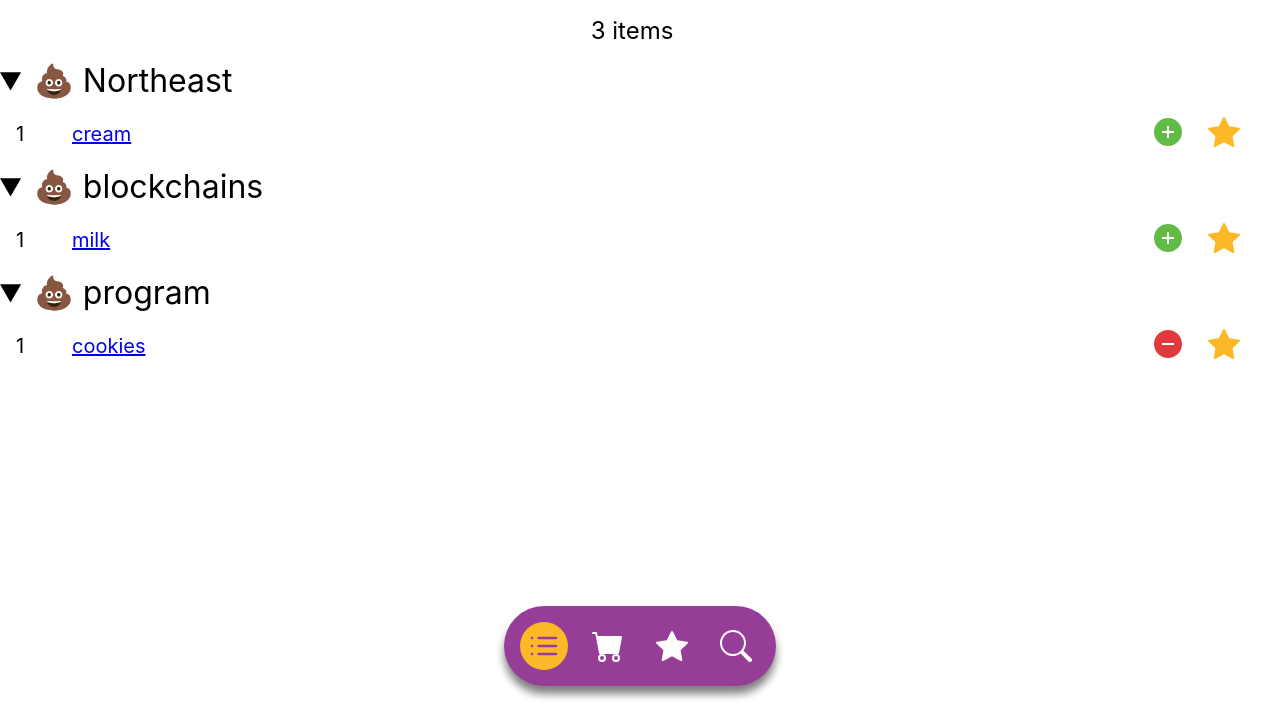
Test case: Groceries view should › navigate to buy list
The width and height of the screenshot is (1280, 720).
What coordinates should you click on to do the following:
click the button named "Show items to buy"
I would click on:
 (608, 646)
Its box is [592,630,624,662].
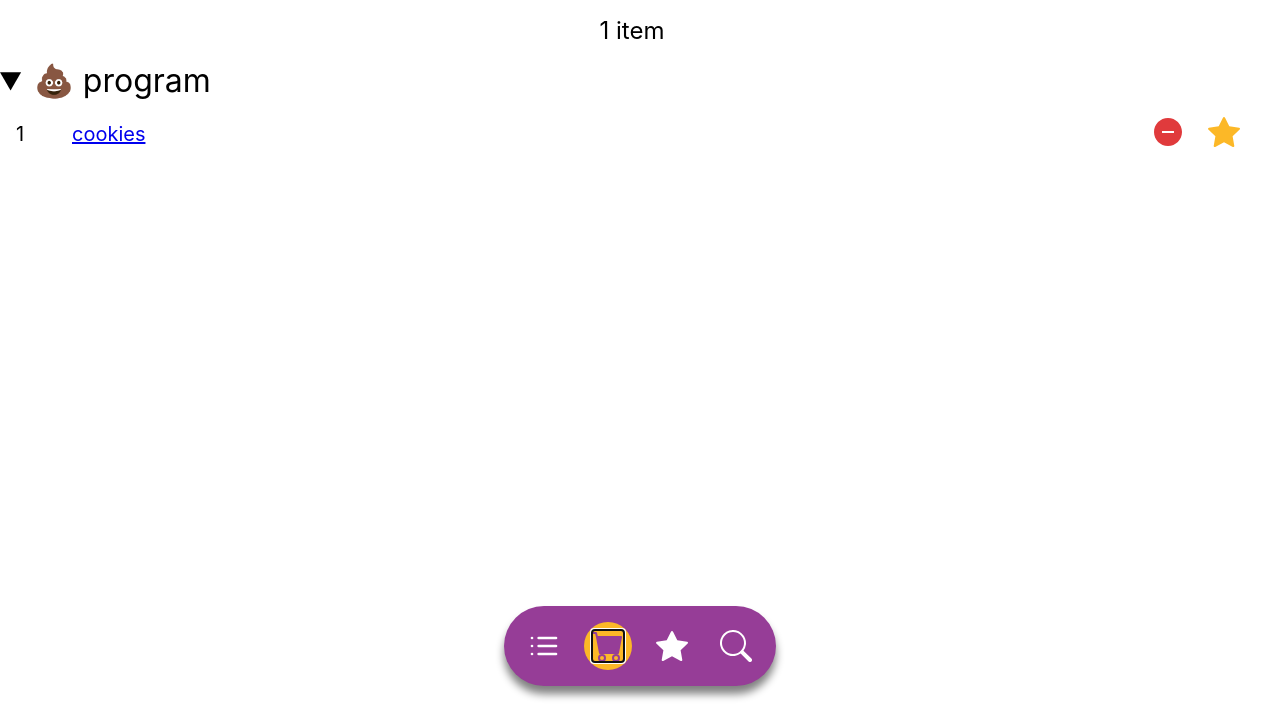
Expected: the text "cookies" is shown, [72,122,146,146]
Expected: the link "milk" is gone
Expected: the link "cream" is gone
